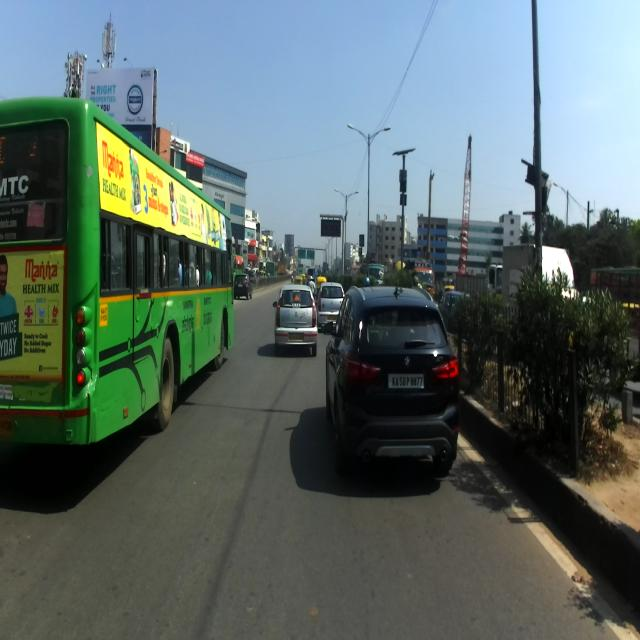bus ahead at: (0, 97, 234, 451)
car ahead at: (322, 281, 461, 480), (274, 279, 322, 359)
